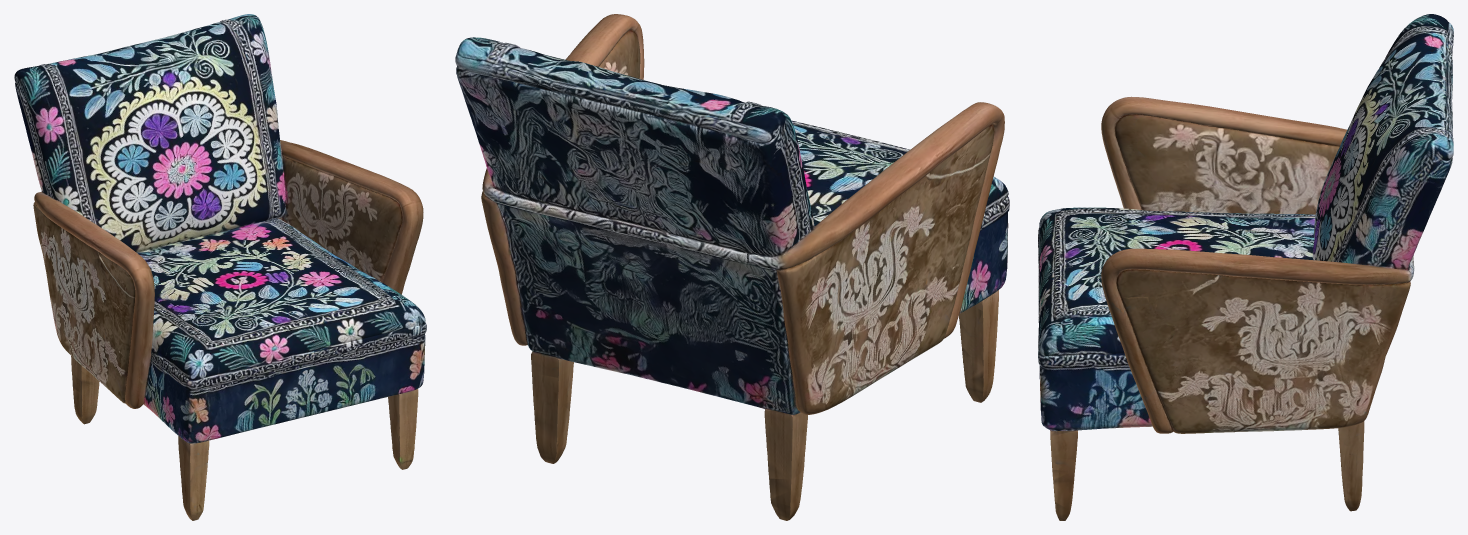
3 renders of one model, left to right at view 1: azimuth 30°, elevation 25°; view 2: azimuth 150°, elevation 25°; view 3: azimuth 270°, elevation 25°, orthographic. The views are drawn at different scales.
Parts seen in each view (by area): view 1: model; view 2: model; view 3: model.
Boxes of the visible parts, x1,y1,x2,y2 form: model: (14, 14, 426, 520); model: (455, 14, 1009, 520); model: (1038, 14, 1453, 520).
Size of the model in its own units: 0.7605 by 0.83 by 0.818.
1 material, 1 textured.
